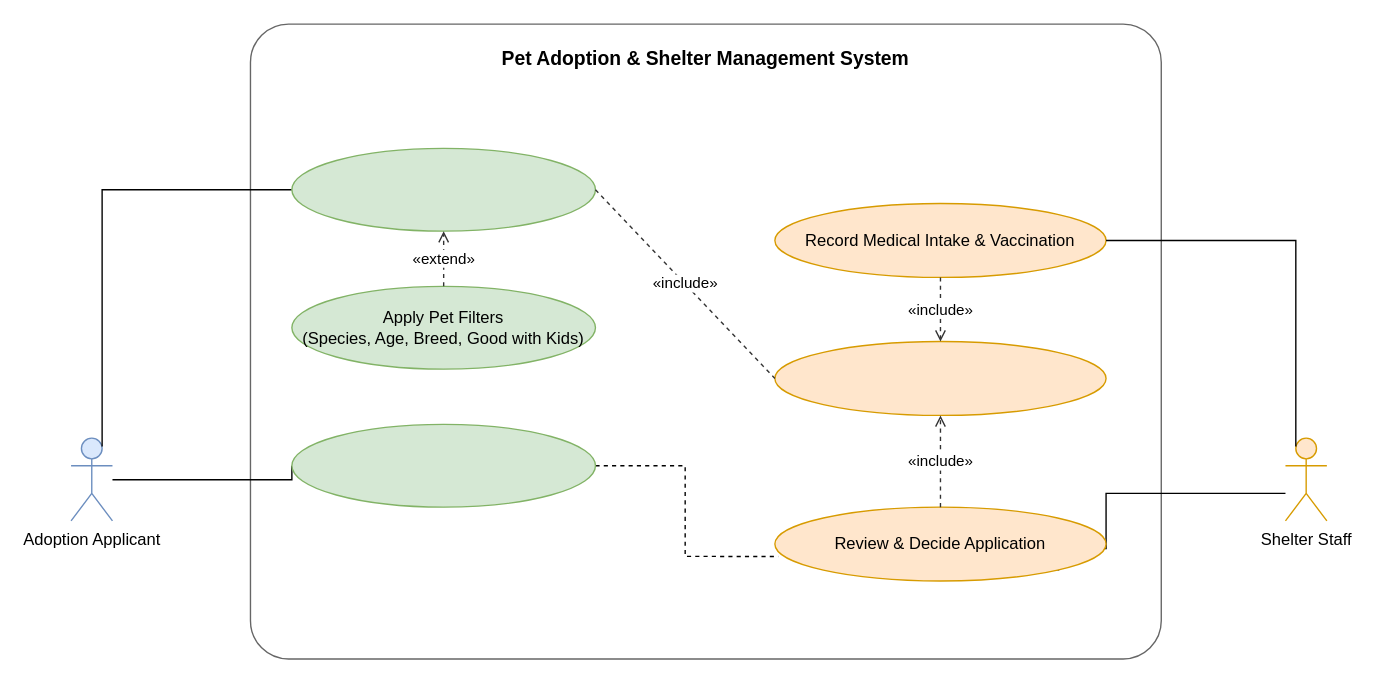
The diagram is 1376 pixels wide and 683 high, and some of its shapes have lost their labels. The shapes that lost their labels are listed below. From the top down, each one's centre as x and y in pixels, then its label:
At point (442, 189): "Search Pet Catalogue".
At point (939, 377): "Update Animal Availability (Ready for Adoption)".
At point (442, 465): "Adoption".
